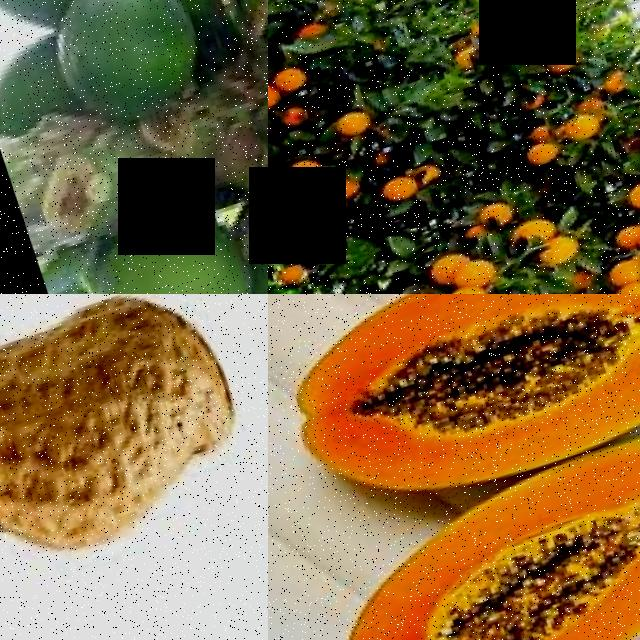orange: (533, 237, 582, 273), (373, 174, 418, 212), (328, 109, 375, 145), (505, 218, 555, 250), (419, 253, 466, 287), (277, 158, 326, 190), (316, 174, 361, 208), (268, 63, 311, 98), (557, 115, 600, 149), (517, 144, 556, 176), (275, 203, 318, 231), (620, 181, 640, 218), (268, 80, 281, 114), (629, 225, 640, 260), (606, 283, 640, 294)
pawpaw: (268, 294, 640, 534), (280, 405, 640, 640), (33, 0, 212, 138), (71, 195, 267, 294)
peanuts: (0, 294, 268, 640)
